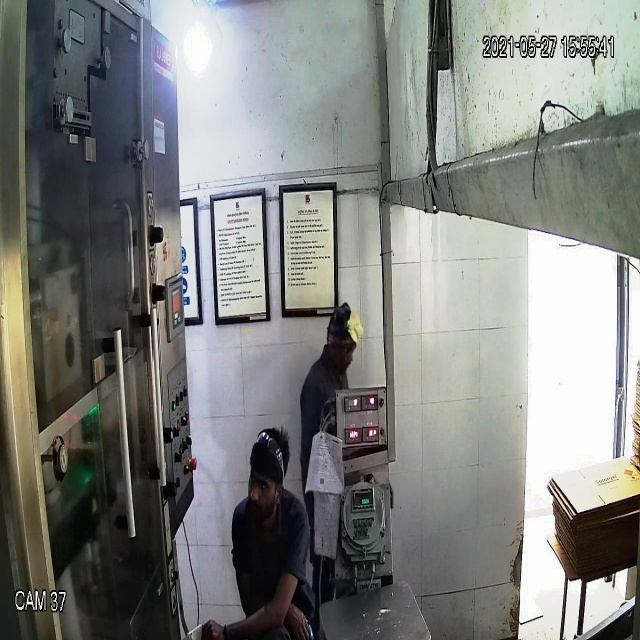Sin_gafas: (241, 466, 280, 500)
